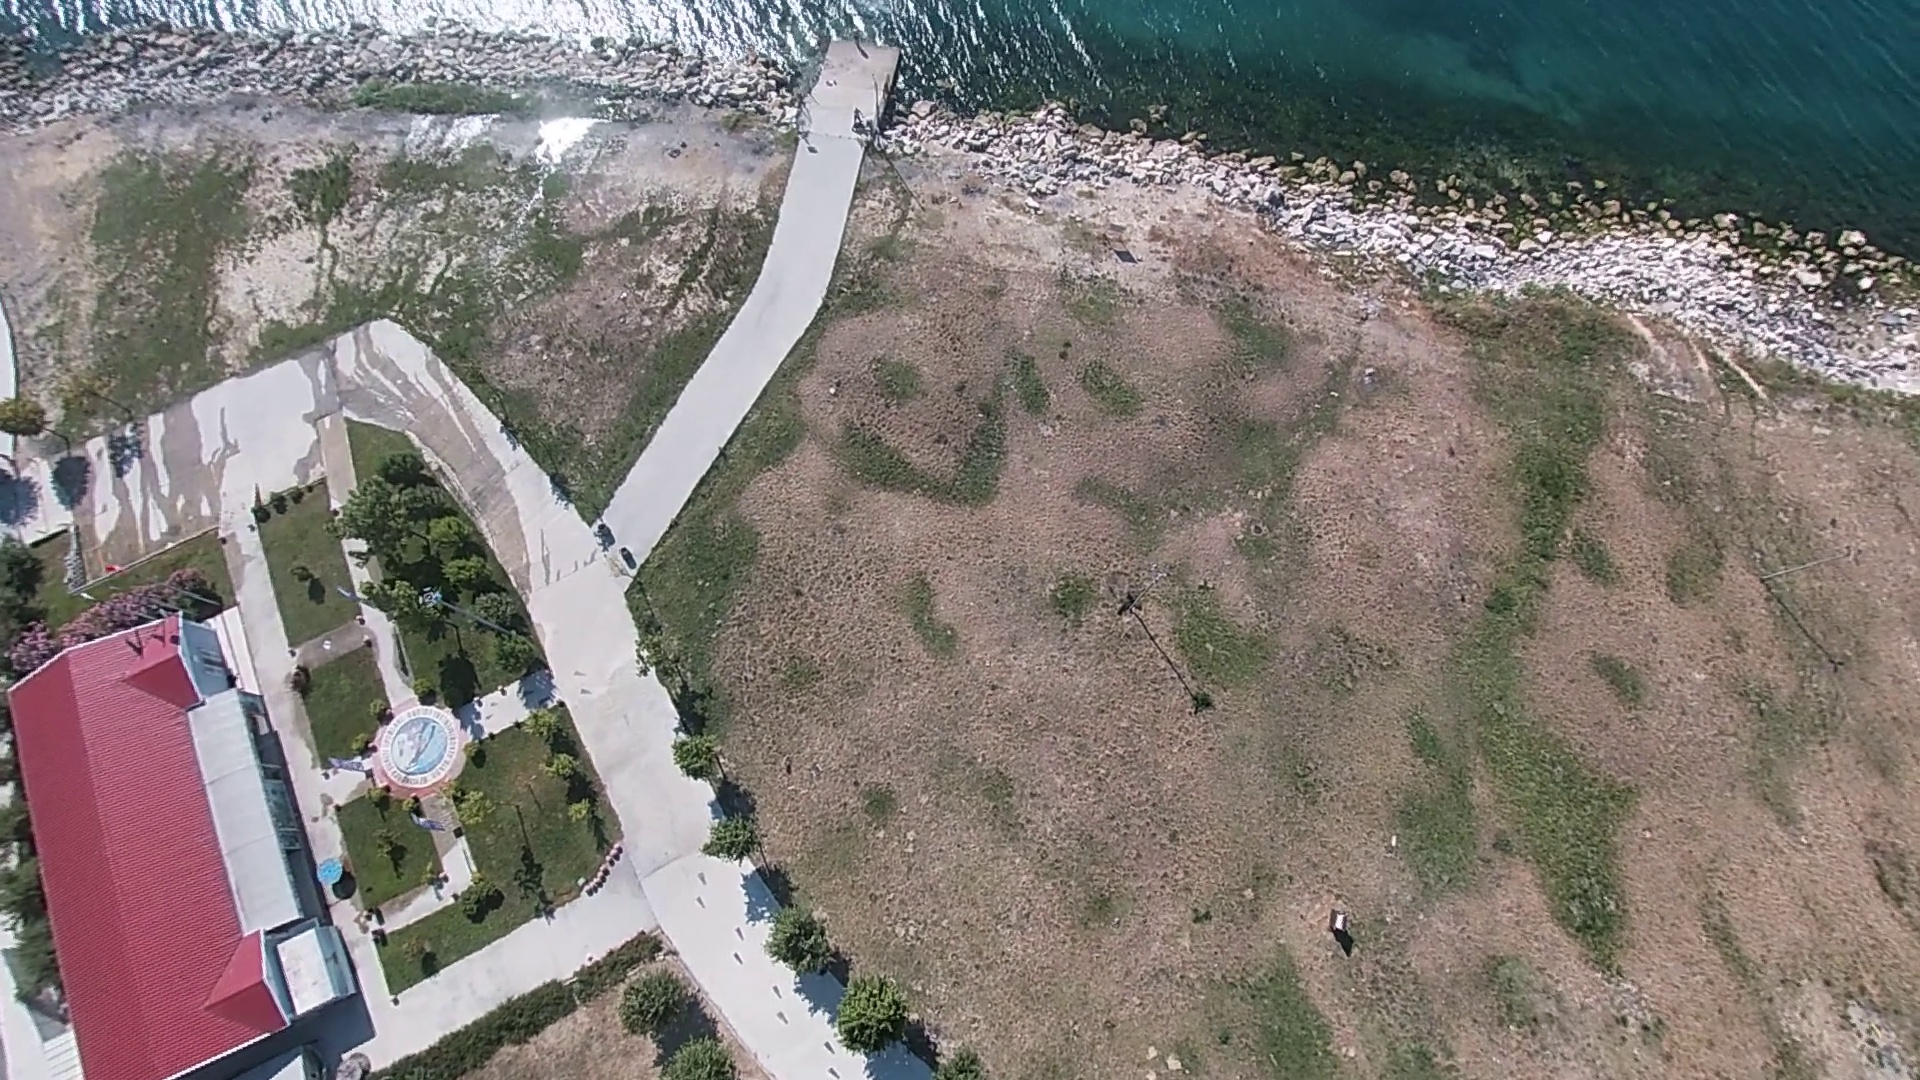insan: (852, 105, 869, 133), (848, 23, 862, 54)
